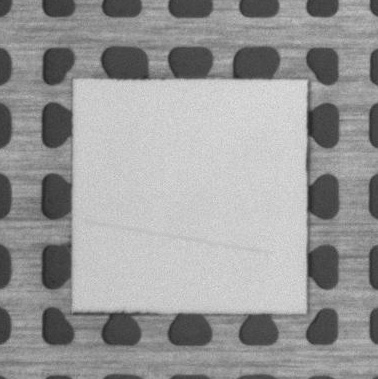DIE_CRACK: (83, 222, 271, 254)
